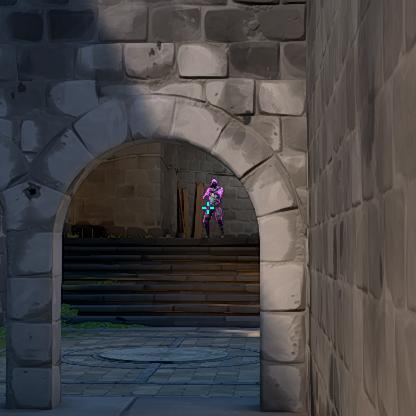enemyBody: (211, 189, 218, 207)
enemyHead: (213, 182, 216, 187)
